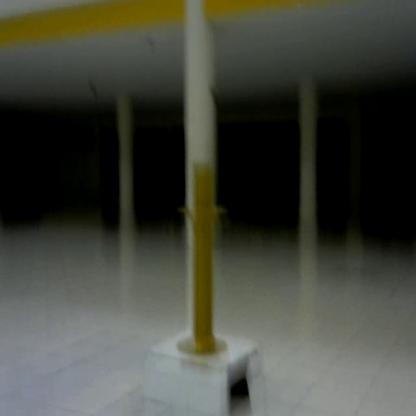pole: (167, 156, 242, 367)
